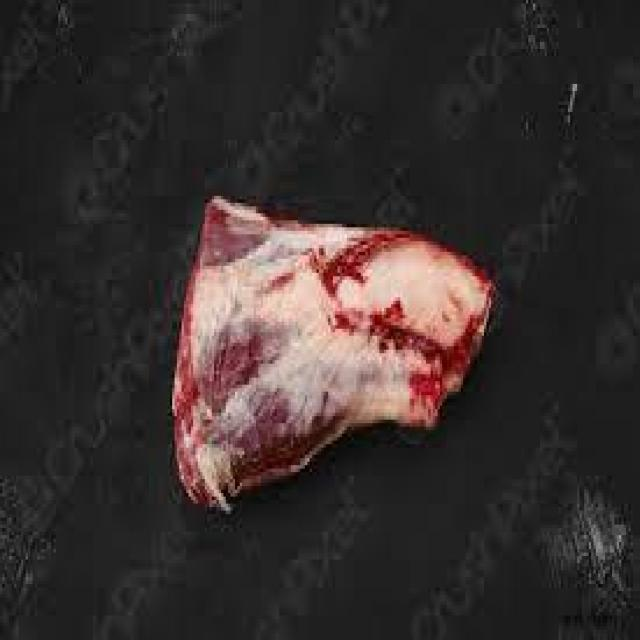Beef: (195, 185, 472, 512)
